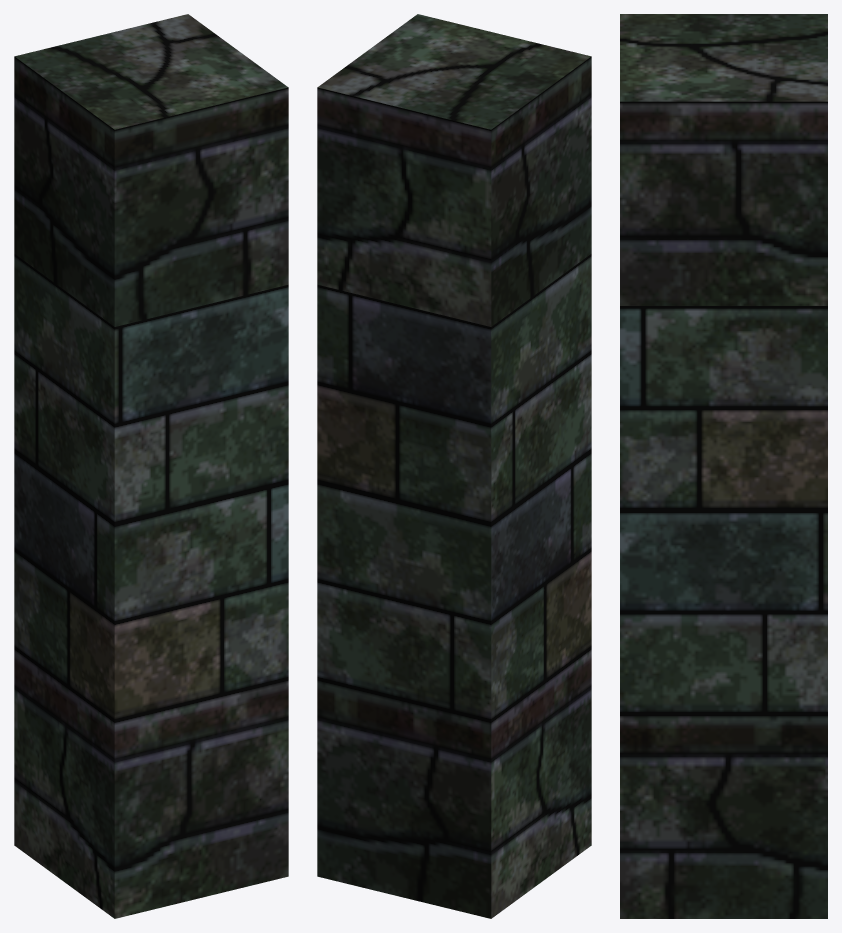
Rendered from SM_CastleWallCorner.fbx.
3 views of the same model, side by side, from view 1: azimuth 30°, elevation 25°; view 2: azimuth 150°, elevation 25°; view 3: azimuth 270°, elevation 25° (orthographic). The views are drawn at different scales.
Visible parts, largest first — view 1: SM_CastleWallCorner; view 2: SM_CastleWallCorner; view 3: SM_CastleWallCorner.
Boxes of the visible parts, x1=… form: SM_CastleWallCorner: x1=14, y1=14, x2=288, y2=918; SM_CastleWallCorner: x1=317, y1=14, x2=591, y2=918; SM_CastleWallCorner: x1=620, y1=14, x2=827, y2=918.
Bounding box in the file's own units: 461 × 2000 × 461.
